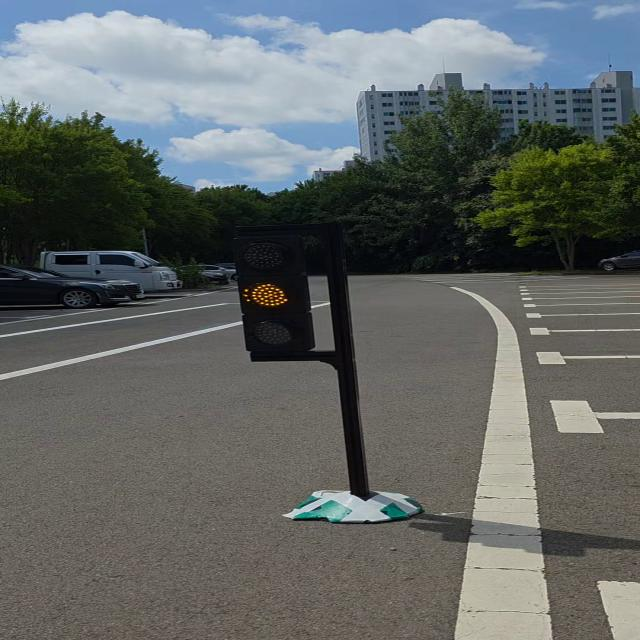yellow: (225, 222, 314, 364)
